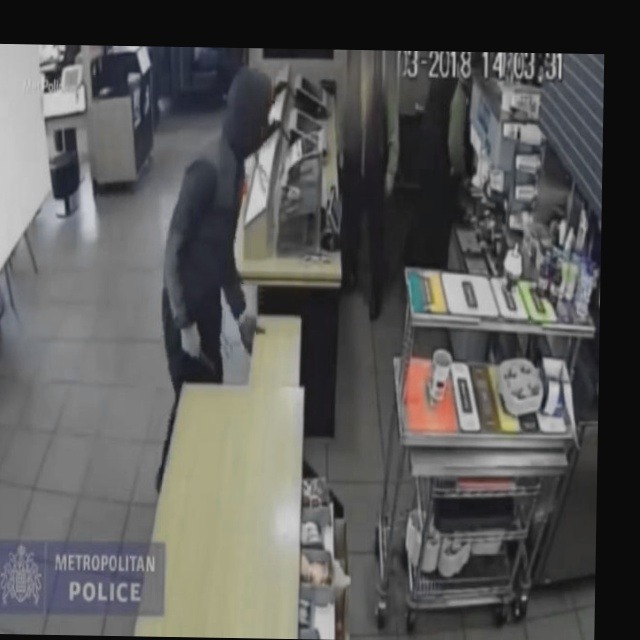gun: (187, 344, 222, 373)
